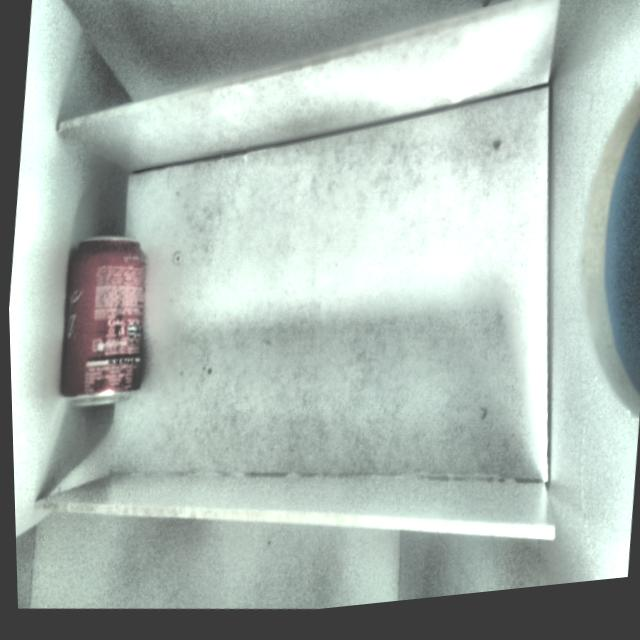Cans: (41, 216, 170, 424)
